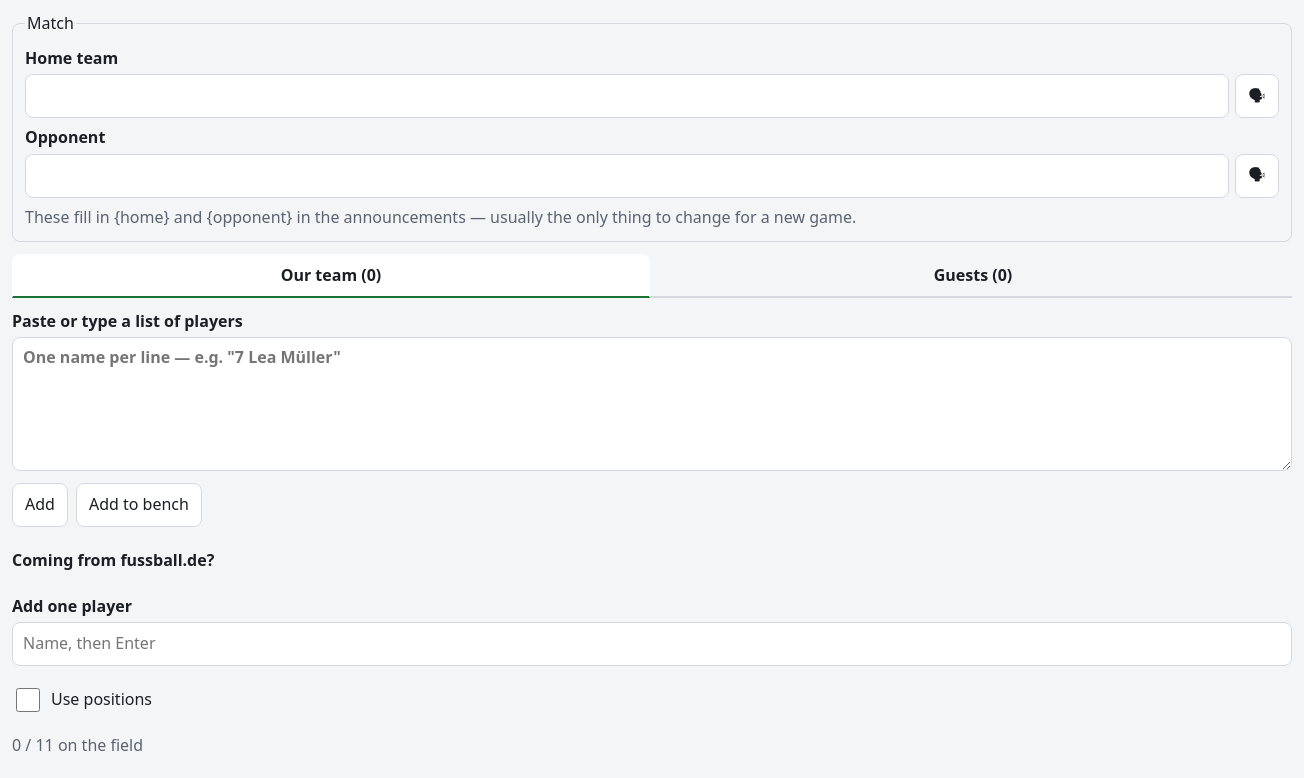
Test: "Coming from fussball.de?" help is collapsed and explains copy & paste
This screenshot has width=1304, height=778.
Click the heading "Coming from fussball.de?" at point(113, 560), box [12, 549, 214, 571]
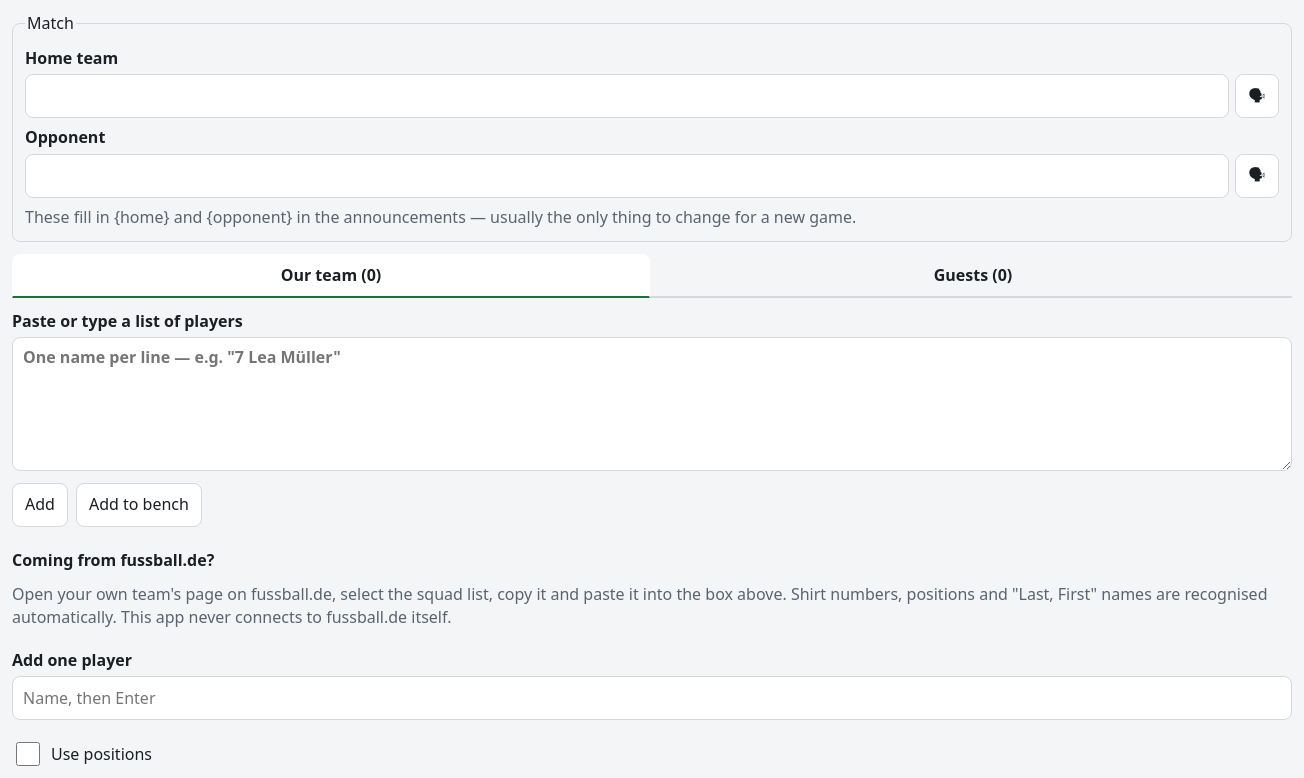
Now the text "Coming from fussball.de?" shows "never connects to fussball.de", box [12, 583, 1268, 628]
